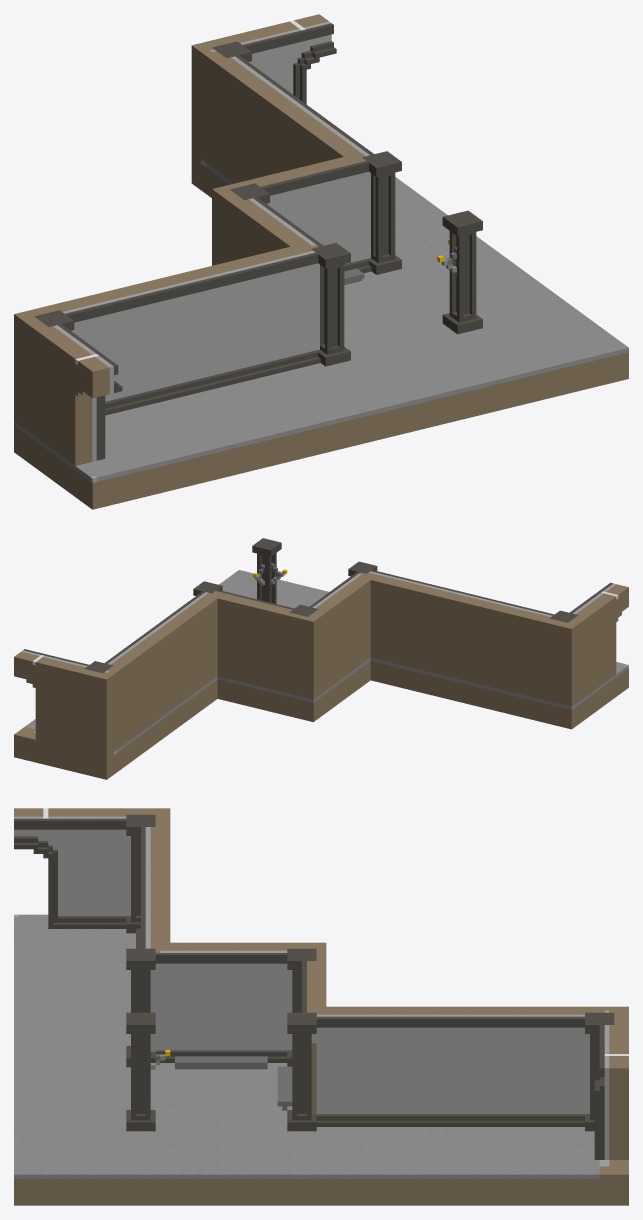
File: CasketRoom-2.obj
The picture shows the model from 3 angles, top to bottom: view 1: azimuth 30°, elevation 25°; view 2: azimuth 150°, elevation 25°; view 3: azimuth 270°, elevation 25°; orthographic projection. The views are drawn at different scales.
Bounding box in the file's own units: 12.6 × 3.1 × 12.6.
